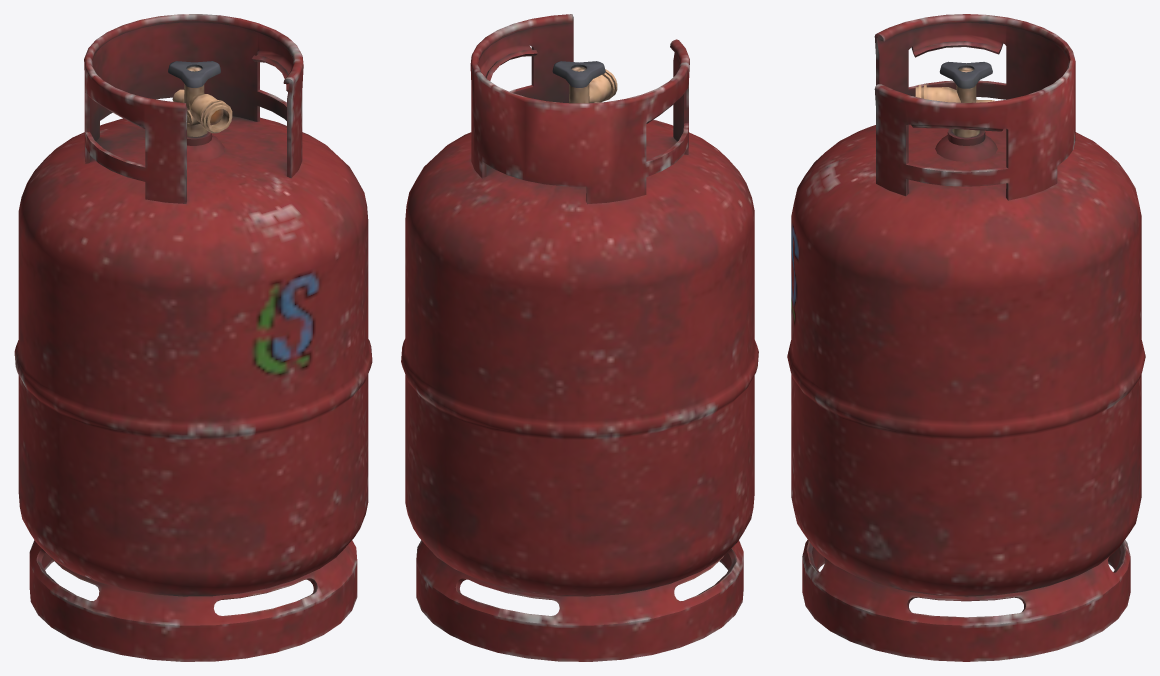
The model's file is propane_tank.83a3fcd765.glb.
3 renders of one model, left to right at view 1: azimuth 30°, elevation 25°; view 2: azimuth 150°, elevation 25°; view 3: azimuth 270°, elevation 25°, orthographic.
Visible parts, largest first — view 1: propane_tank; view 2: propane_tank; view 3: propane_tank.
Boxes of the visible parts, x1=… form: propane_tank: x1=14, y1=14, x2=372, y2=661; propane_tank: x1=401, y1=14, x2=758, y2=661; propane_tank: x1=787, y1=14, x2=1145, y2=661.
Bounding box in the file's own units: 0.3374 × 0.5538 × 0.3374.
1 material, 1 textured.
